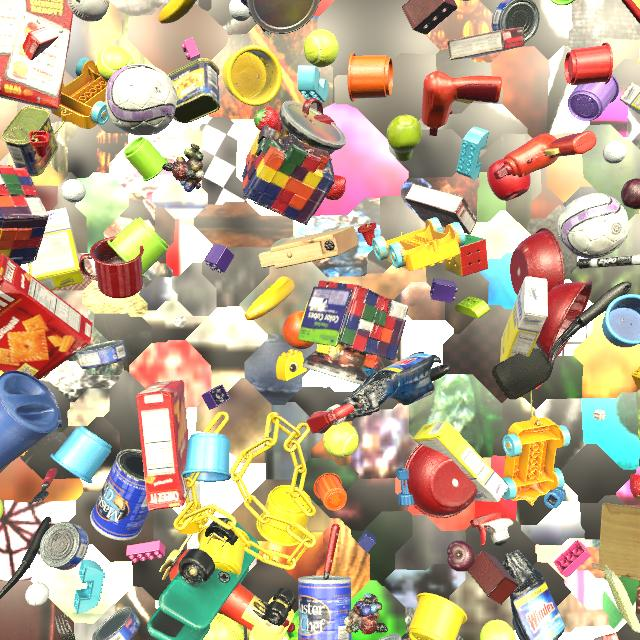ycb_002_master_chef_can: (90, 449, 149, 541), (298, 576, 352, 640), (379, 633, 402, 640)
ycb_003_cracker_box: (0, 254, 92, 380), (0, 0, 73, 111), (136, 380, 190, 511)
ycb_004_sugar_box: (413, 421, 509, 502), (28, 208, 84, 290), (500, 276, 548, 362), (620, 83, 640, 115)
ycb_007_tuna_fish_can: (40, 522, 89, 570), (492, 0, 540, 43), (92, 607, 140, 640), (76, 340, 127, 369)
ycb_008_pudding_box: (404, 183, 477, 235), (448, 27, 525, 60)
ycb_009_gelatin_box: (22, 27, 58, 60), (593, 633, 619, 640)
ycb_010_potted_meat_can: (1, 105, 58, 176), (168, 58, 220, 123)
ycb_011_banana: (245, 276, 295, 320), (158, 0, 197, 24)
ycb_012_strawberry: (254, 107, 281, 131), (326, 175, 346, 200), (630, 474, 640, 500)
ycb_013_apple: (487, 158, 530, 201)
ycb_016_pear: (386, 115, 422, 161)
ycb_017_orange: (282, 311, 314, 349)
ycb_018_plum: (447, 541, 475, 572), (621, 178, 640, 209)
